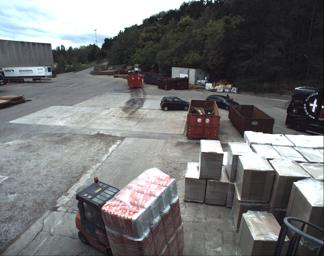rockwool_batts: (101, 172, 186, 255)
